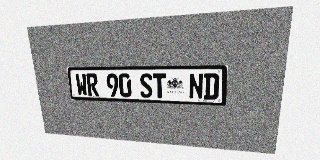0: (118, 73, 132, 97)
9: (106, 73, 119, 97)
D: (203, 73, 219, 100)
N: (189, 73, 204, 99)
R: (86, 73, 99, 96)
S: (139, 73, 153, 98)
T: (153, 73, 166, 98)
W: (75, 74, 88, 96)
